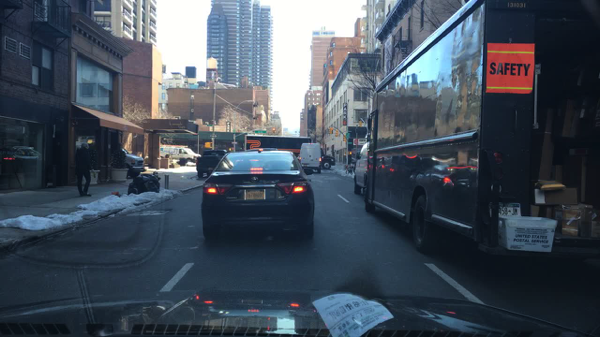bike: (347, 163, 355, 175)
car: (202, 149, 316, 242), (353, 143, 371, 197), (121, 149, 147, 177), (160, 146, 200, 162)
person: (69, 141, 94, 198)
traffic light: (205, 141, 211, 148), (348, 149, 353, 157), (272, 125, 276, 135), (330, 127, 335, 134), (325, 126, 328, 136), (359, 121, 362, 130), (330, 126, 331, 134)
traffic sign: (344, 133, 351, 141), (252, 129, 265, 133), (205, 123, 213, 128), (347, 142, 354, 146), (208, 134, 217, 137)
truck: (363, 1, 599, 258), (243, 136, 336, 170), (196, 149, 228, 180), (299, 142, 324, 174)
